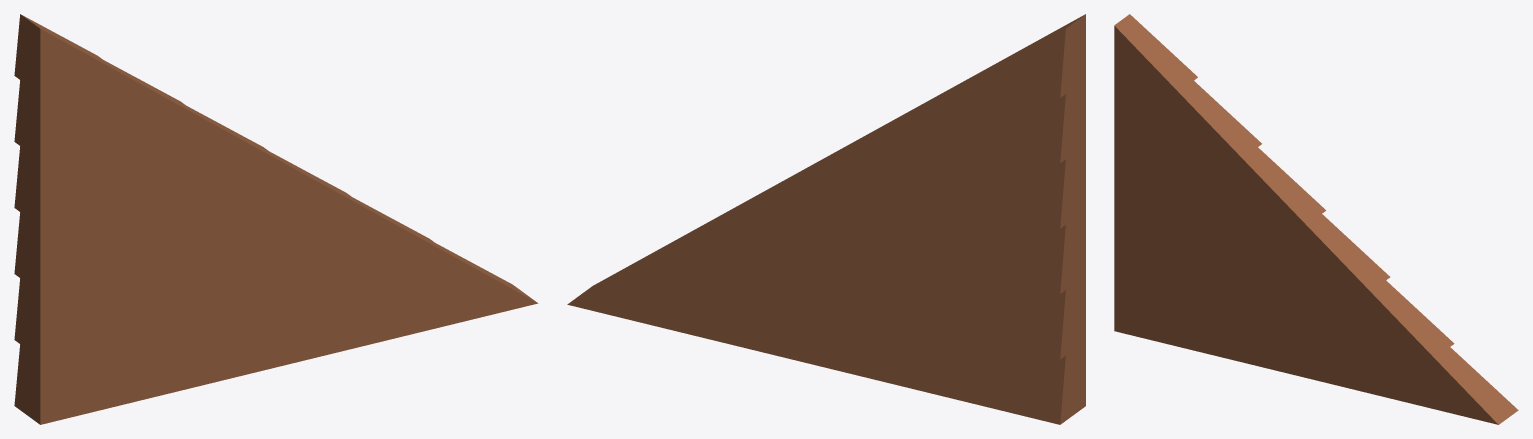
Rendered from cabinSide.dae.
The picture shows the model from 3 angles, left to right: view 1: azimuth 30°, elevation 25°; view 2: azimuth 150°, elevation 25°; view 3: azimuth 330°, elevation 25°; orthographic projection. The views are drawn at different scales.
Parts seen in each view (by area): view 1: cabinSide; view 2: cabinSide; view 3: cabinSide.
Boxes of the visible parts, bbox=[...] form: cabinSide: bbox=[14, 14, 538, 424]; cabinSide: bbox=[567, 14, 1085, 424]; cabinSide: bbox=[1114, 14, 1518, 424].
Size of the model in its own units: 1 by 0.76 by 0.0902.
